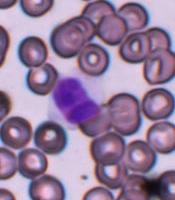M: (48, 73, 102, 128)
